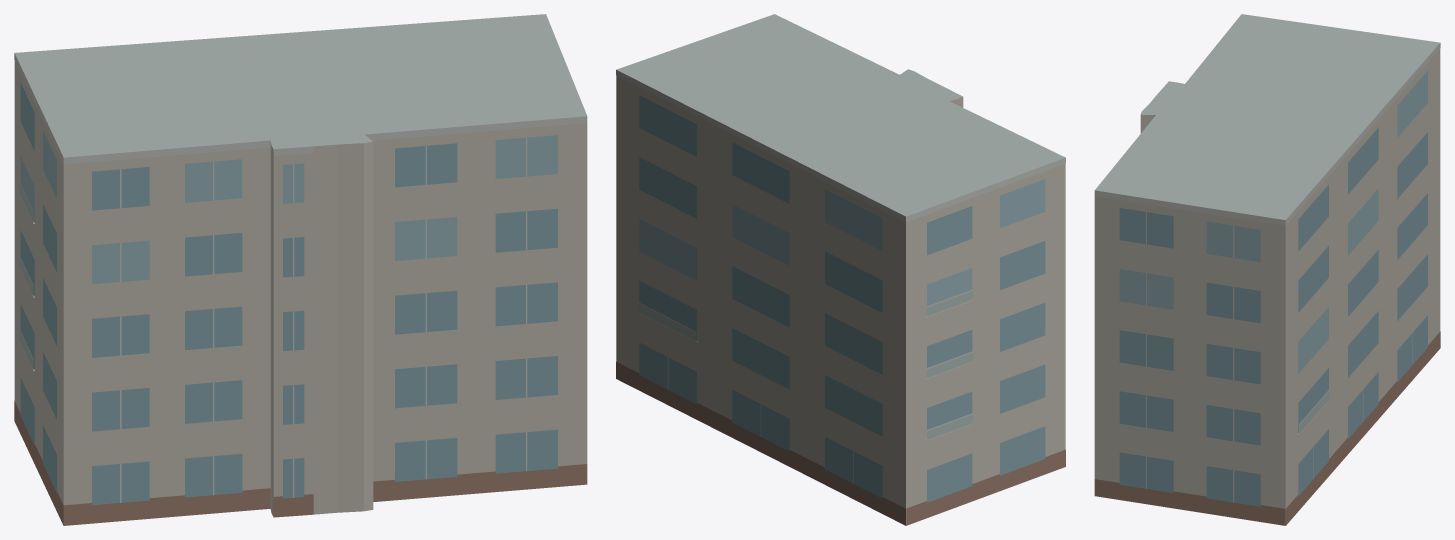
File: survey-upis-32894332.glb
3 renders of one model, left to right at view 1: azimuth 30°, elevation 25°; view 2: azimuth 150°, elevation 25°; view 3: azimuth 270°, elevation 25°, orthographic. The views are drawn at different scales.
Parts seen in each view (by area): view 1: survey-upis-32894332.tmp; view 2: survey-upis-32894332.tmp; view 3: survey-upis-32894332.tmp.
Part boxes in pixels (box(x1,y1,x2,y2)): survey-upis-32894332.tmp: box(14, 14, 587, 525); survey-upis-32894332.tmp: box(616, 14, 1065, 525); survey-upis-32894332.tmp: box(1094, 14, 1440, 525).
Size of the model in its own units: 19.1 by 13.2 by 13.54.
